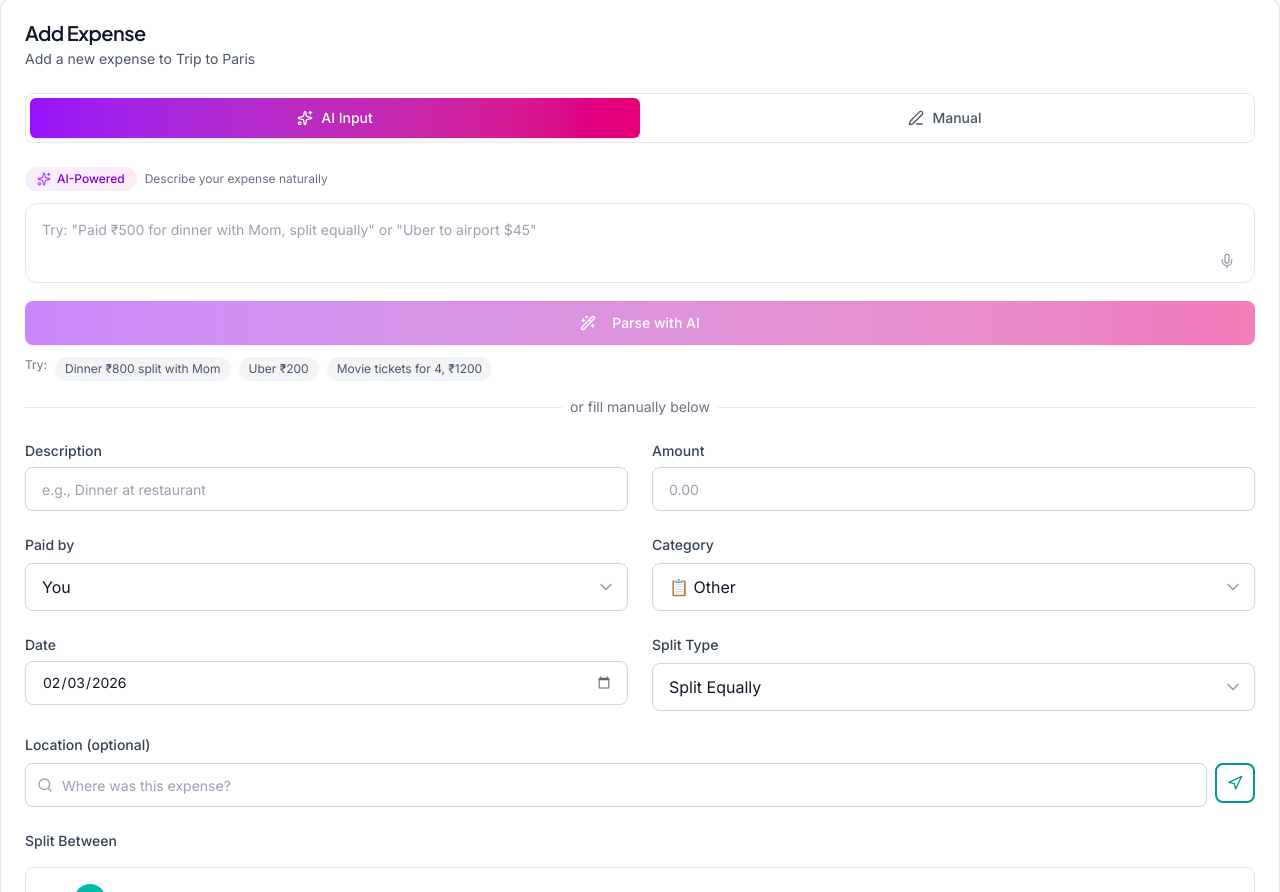
Scenario: ExpenseForm › Equal split calculation › recalculates when member is deselected
In the number field labelled "Amount": (954, 489) [652,467,1255,511], type "100"
(page scrolled)
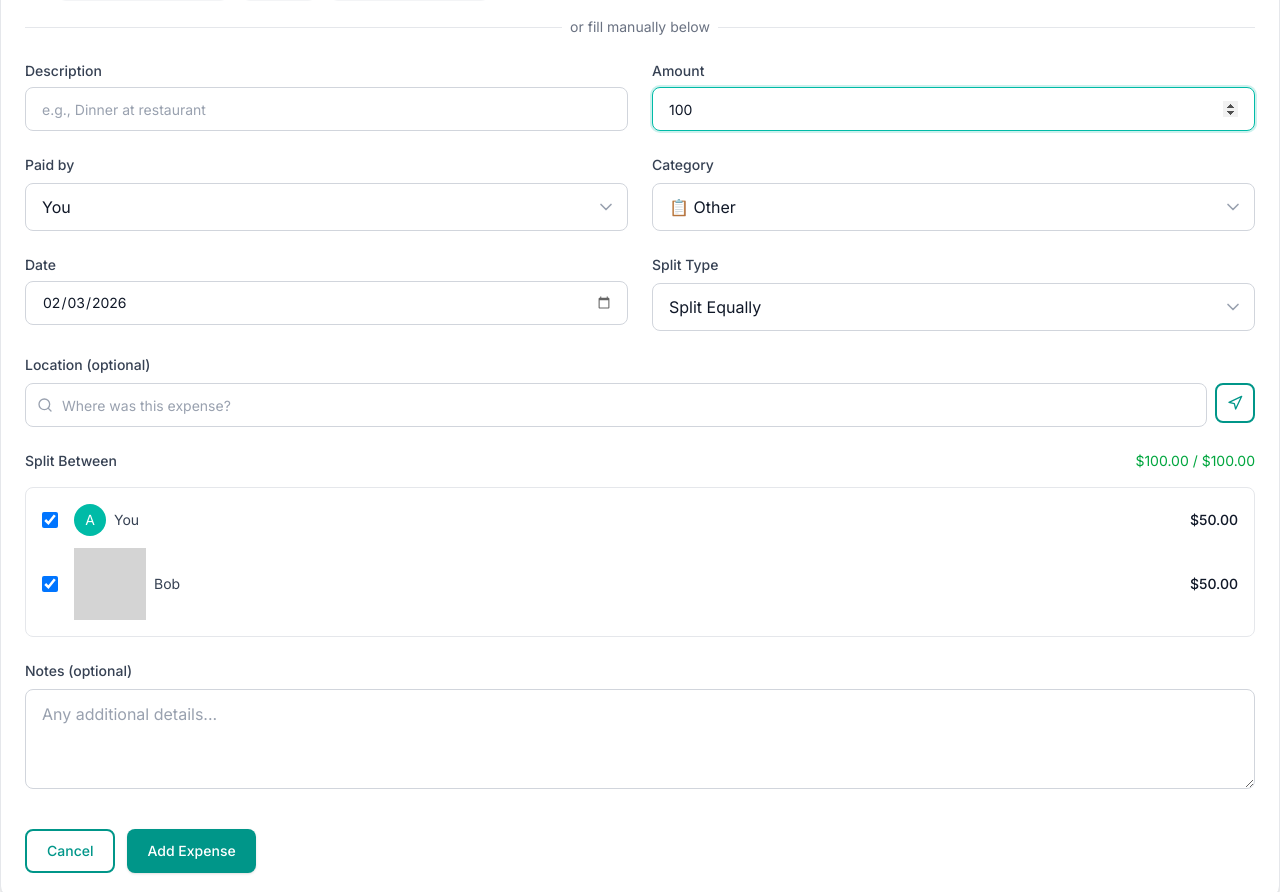
Click the checkbox next to "Bob": (50, 584) [42,576,58,592]
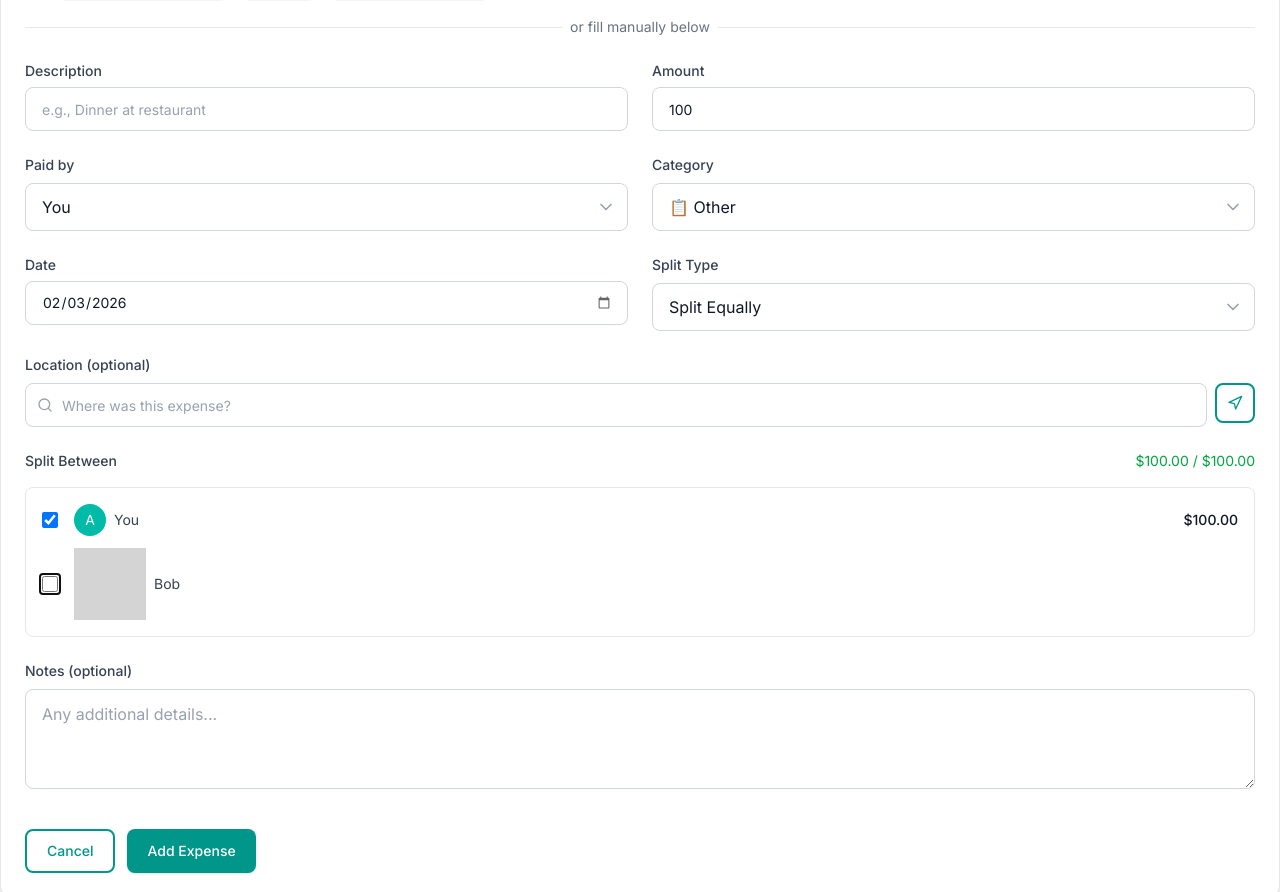
Result: the text "$100.00" is shown at [1184,511,1238,528]
